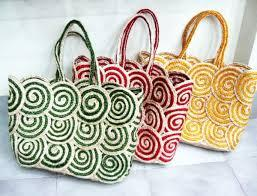Textile: (1, 1, 257, 196)
